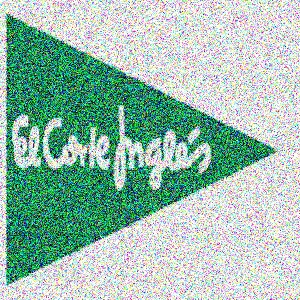corte_ingles: (276, 8, 282, 24)
